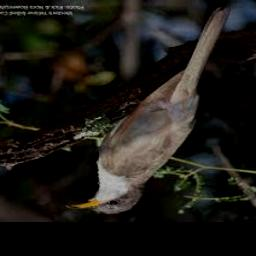Cuckoo: (66, 7, 231, 213)
